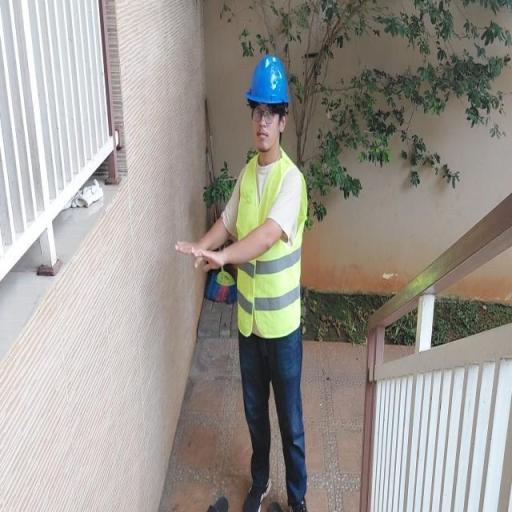Person: (173, 36, 322, 506)
helmet: (228, 52, 308, 108)
vest: (216, 148, 313, 342)
